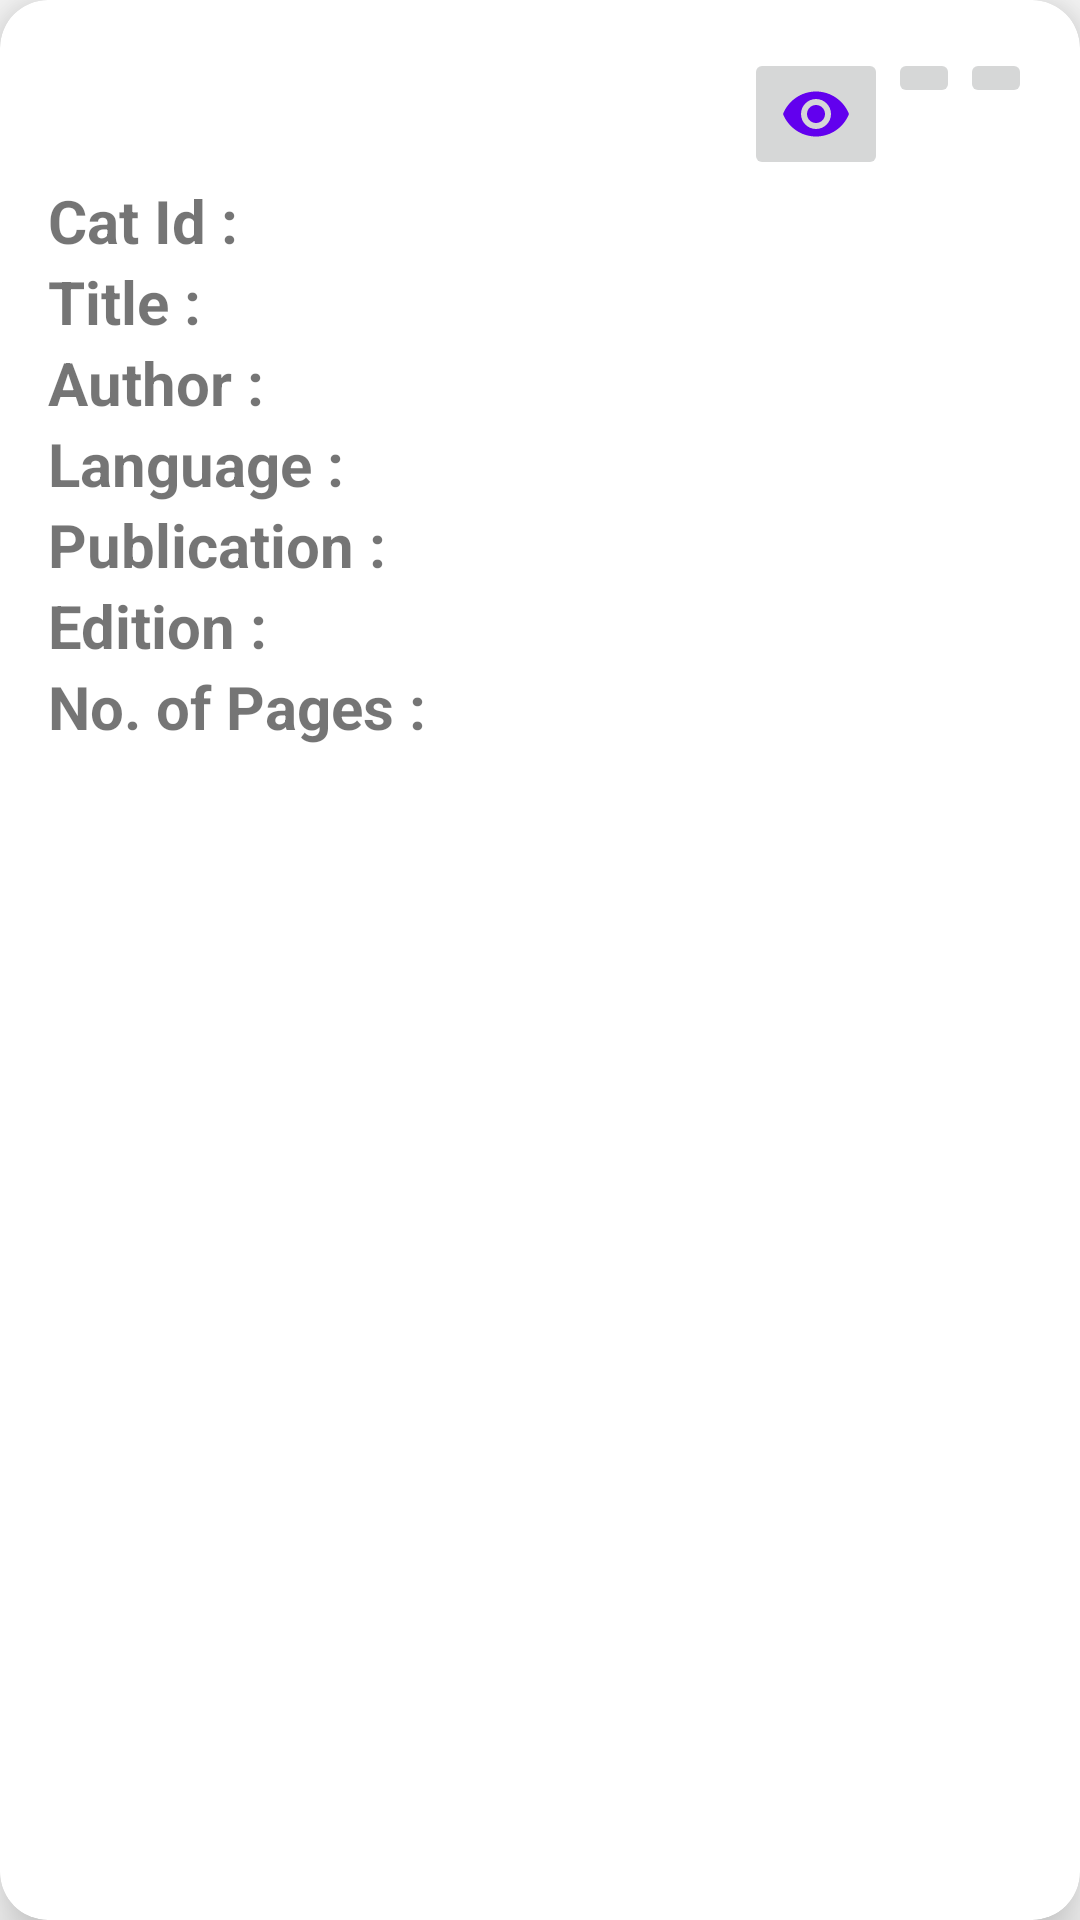

Named icons in this screenshot (1080x1920) and their centers, point (x, y):
view: point (816, 114)
